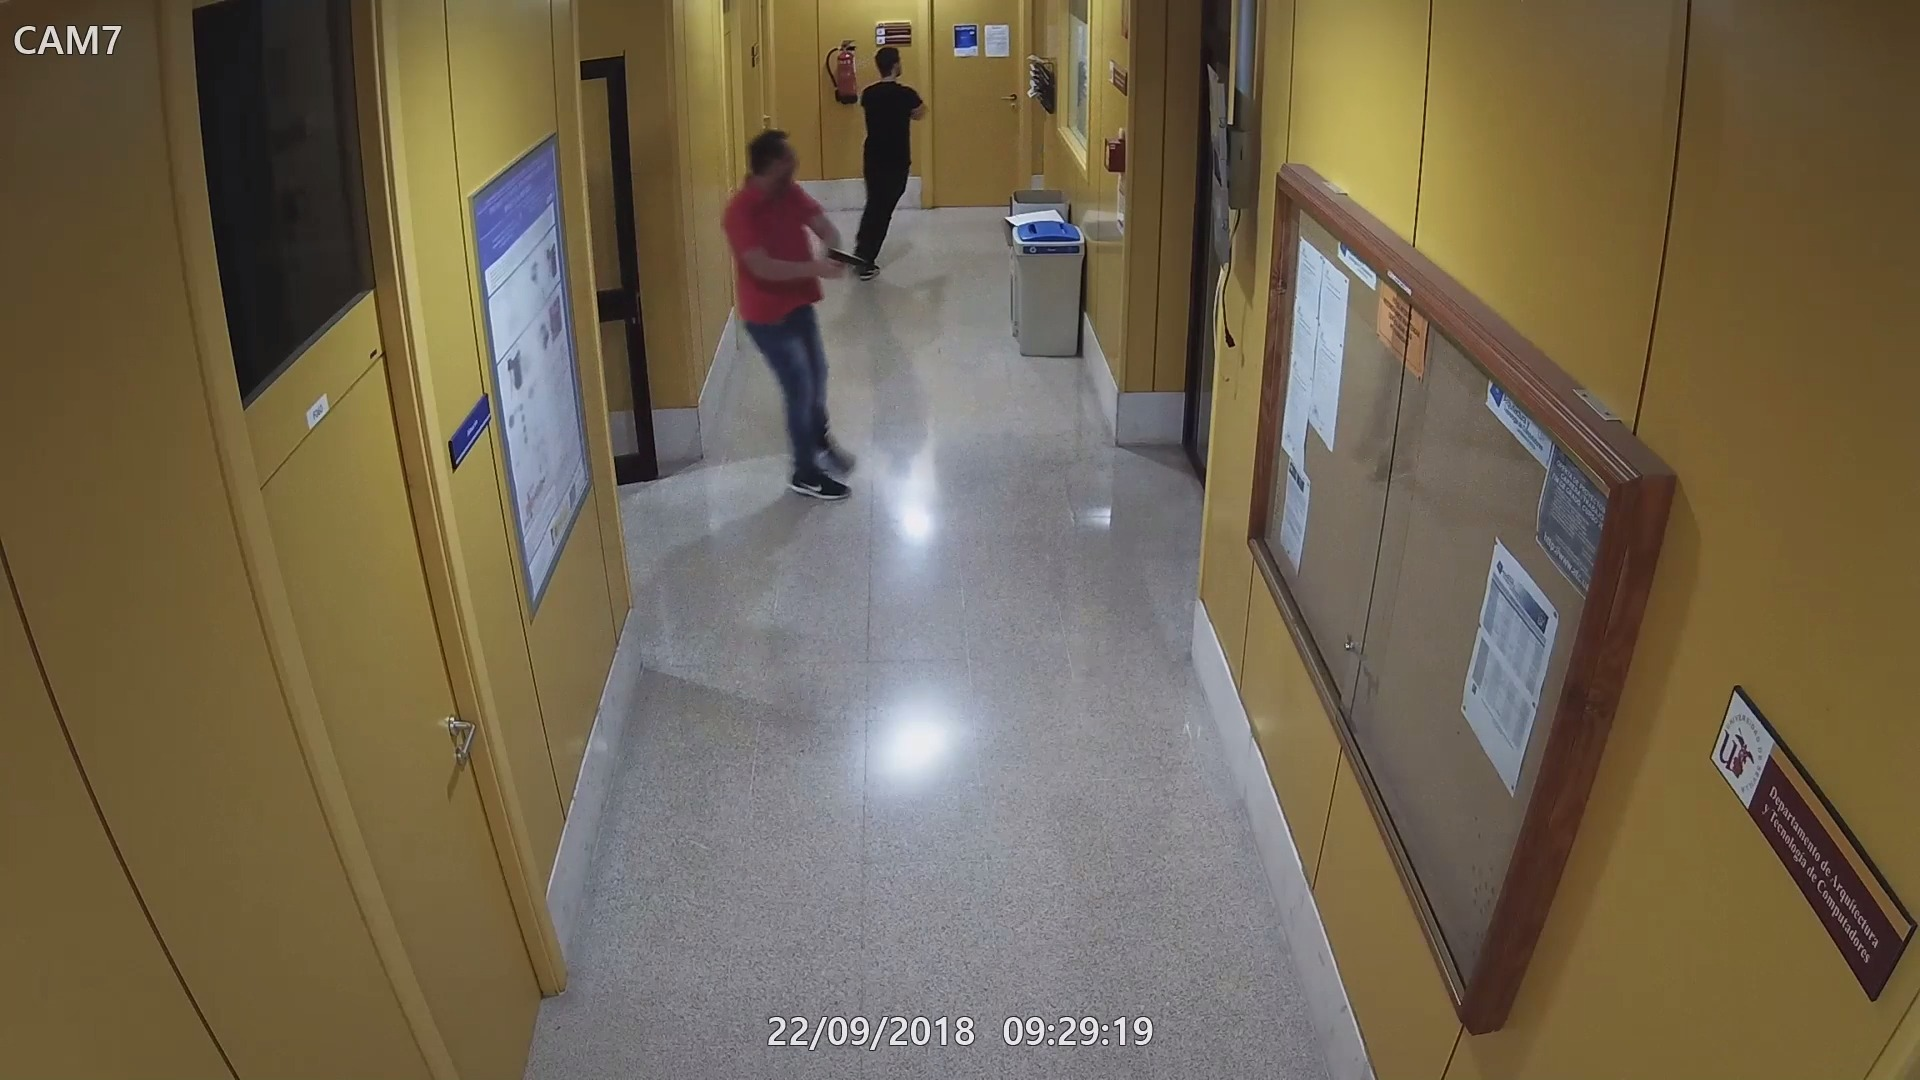pistol: (822, 241, 873, 281)
